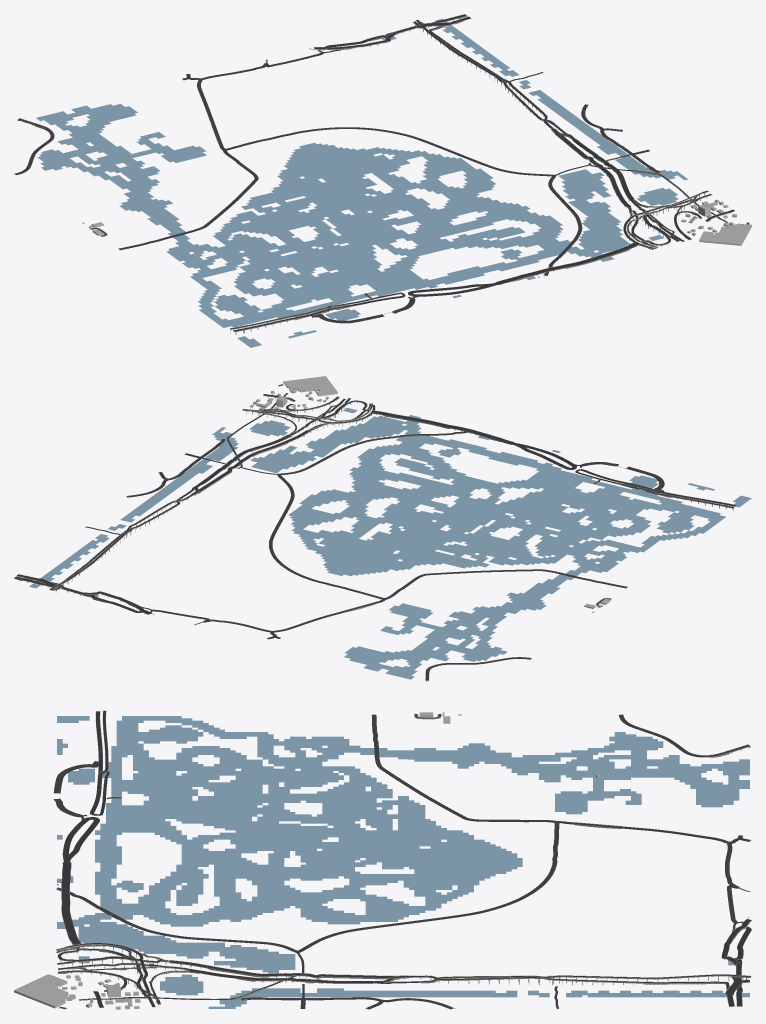
Rendered from chunk_6_4.glb.
The picture shows the model from 3 angles, top to bottom: view 1: azimuth 30°, elevation 25°; view 2: azimuth 150°, elevation 25°; view 3: azimuth 270°, elevation 25°; orthographic projection. The views are drawn at different scales.
Visible parts, largest first — view 1: Water_6_4, Roads_6_4, RoadSides_6_4, Buildings_6_4; view 2: Water_6_4, Roads_6_4, RoadSides_6_4, Buildings_6_4; view 3: Water_6_4, Roads_6_4, RoadSides_6_4, Buildings_6_4, Filler_6_4.
Part boxes in pixels (<box>): Water_6_4: <box>36,19,687,347</box>; Roads_6_4: <box>14,14,749,331</box>; RoadSides_6_4: <box>17,14,746,335</box>; Buildings_6_4: <box>89,154,751,245</box>; Water_6_4: <box>29,408,751,679</box>; Roads_6_4: <box>14,384,735,680</box>; RoadSides_6_4: <box>14,384,736,681</box>; Buildings_6_4: <box>283,376,610,629</box>; Water_6_4: <box>57,716,749,1008</box>; Roads_6_4: <box>53,710,751,1009</box>; RoadSides_6_4: <box>56,711,751,1008</box>; Buildings_6_4: <box>14,712,599,1008</box>; Filler_6_4: <box>62,975,140,1009</box>.
Bounding box in the file's own units: 2059 × 30.48 × 2181.
